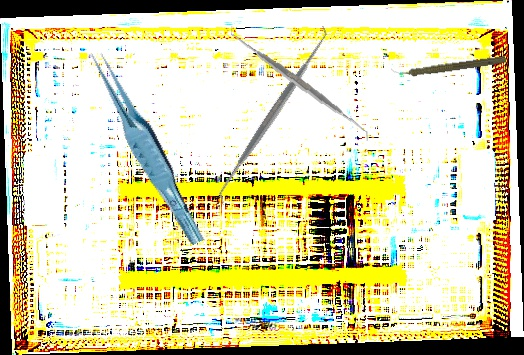Handpiece: (390, 51, 507, 81)
Spatula Surgical: (205, 24, 340, 207), (230, 16, 369, 151)
Tissue Forceps: (88, 41, 206, 253)
